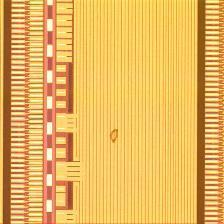PARTICLE: (108, 128, 124, 144)
